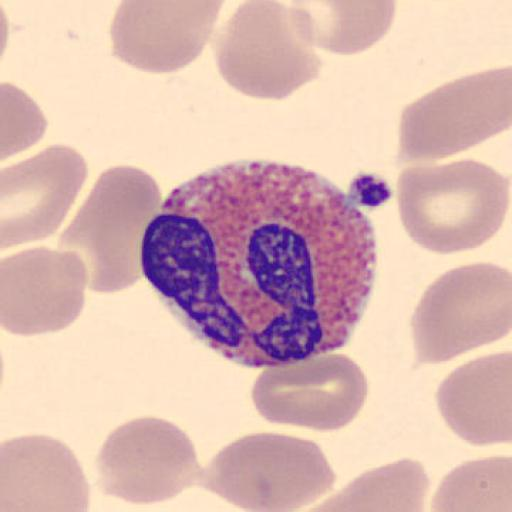RBC: (58, 163, 162, 295), (394, 156, 511, 256), (193, 430, 335, 512), (395, 66, 512, 162), (408, 260, 512, 366), (214, 1, 324, 101), (93, 414, 203, 506), (250, 350, 370, 433), (2, 142, 90, 249), (108, 0, 225, 75), (2, 246, 88, 338), (290, 457, 432, 512), (435, 349, 512, 448), (2, 431, 91, 512), (279, 0, 398, 56), (429, 453, 512, 512), (280, 481, 423, 512), (2, 80, 48, 162), (0, 0, 10, 72)
WBC: (140, 157, 378, 369)
